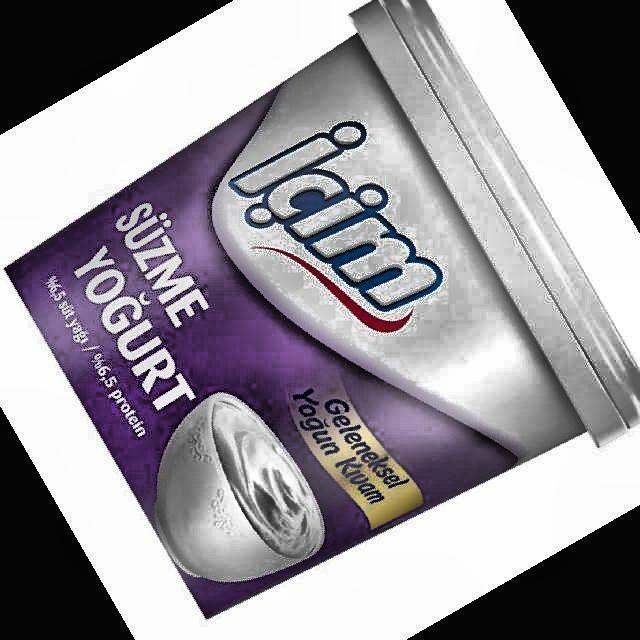plastic: (9, 0, 640, 616)
